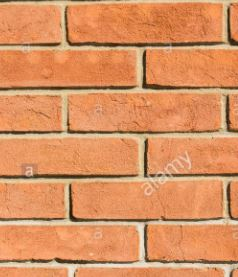brick: (65, 2, 229, 44), (71, 176, 224, 221), (67, 91, 222, 134), (1, 50, 142, 90), (1, 137, 140, 176), (1, 224, 140, 263), (144, 223, 238, 263), (145, 48, 238, 87), (145, 137, 238, 174), (1, 3, 63, 45), (1, 95, 65, 135), (1, 181, 67, 219)
